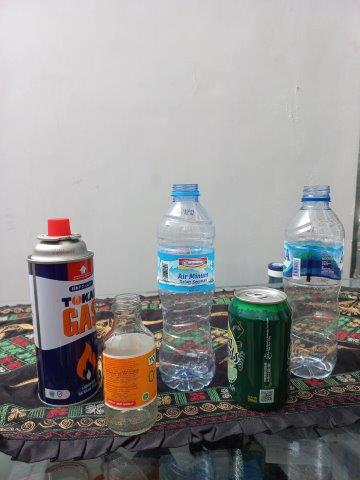botolkaca: (101, 296, 157, 434)
botolplastik: (158, 183, 217, 392), (284, 185, 344, 379)
kaleng: (26, 219, 100, 406), (226, 288, 292, 409)
